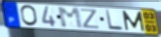4: (41, 5, 58, 28)
L: (104, 9, 125, 32)
M: (56, 7, 85, 30), (122, 10, 147, 32)
O: (20, 5, 39, 28)
Z: (79, 8, 101, 30)
